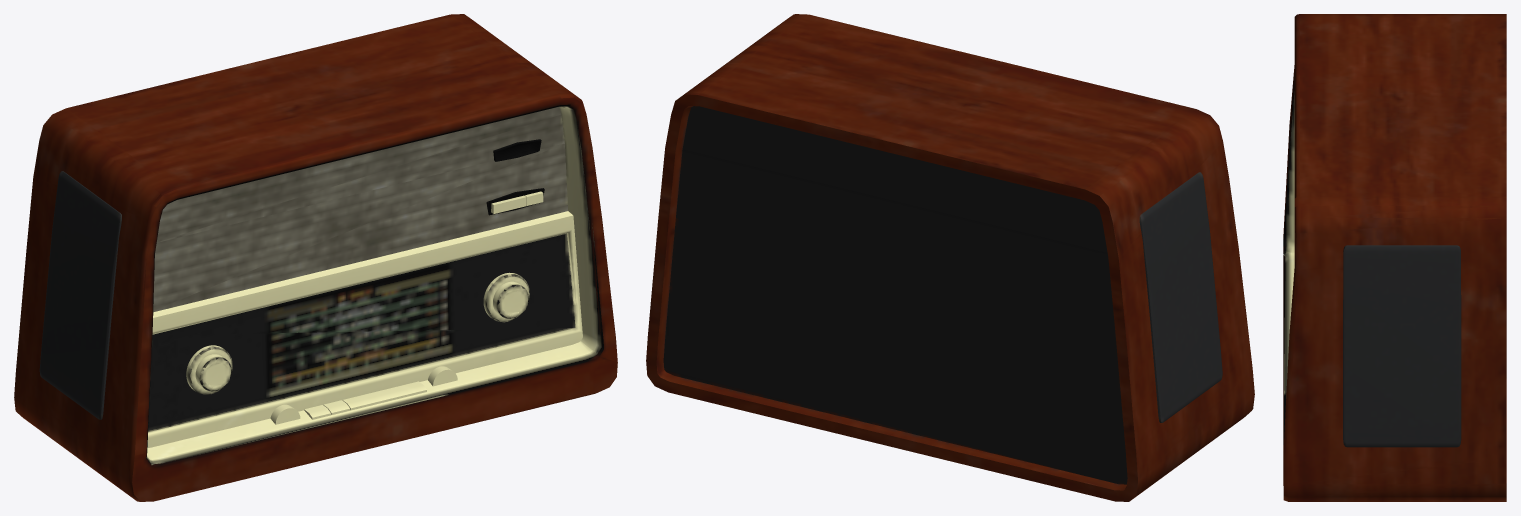
The model's file is radio_old.glb.
3 renders of one model, left to right at view 1: azimuth 30°, elevation 25°; view 2: azimuth 150°, elevation 25°; view 3: azimuth 270°, elevation 25°, orthographic. The views are drawn at different scales.
Visible parts, largest first — view 1: mesh; view 2: mesh; view 3: mesh.
Part boxes in pixels (x1,y1,x2,y2): mesh: [14, 14, 617, 501]; mesh: [646, 14, 1254, 501]; mesh: [1283, 14, 1506, 501].
Bounding box in the file's own units: 0.3383 × 0.2 × 0.1403.
Materials: 1 (1 with a texture image).
